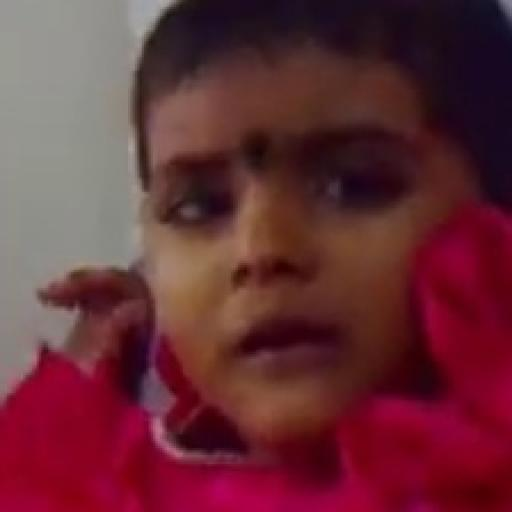Autism: (123, 26, 455, 509)
